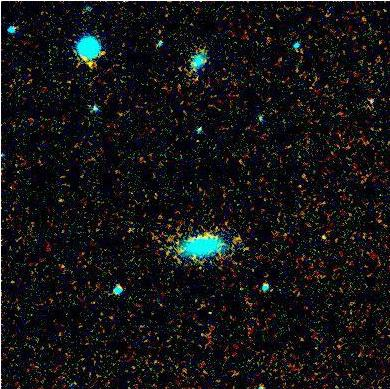star: (311, 221, 341, 251)
